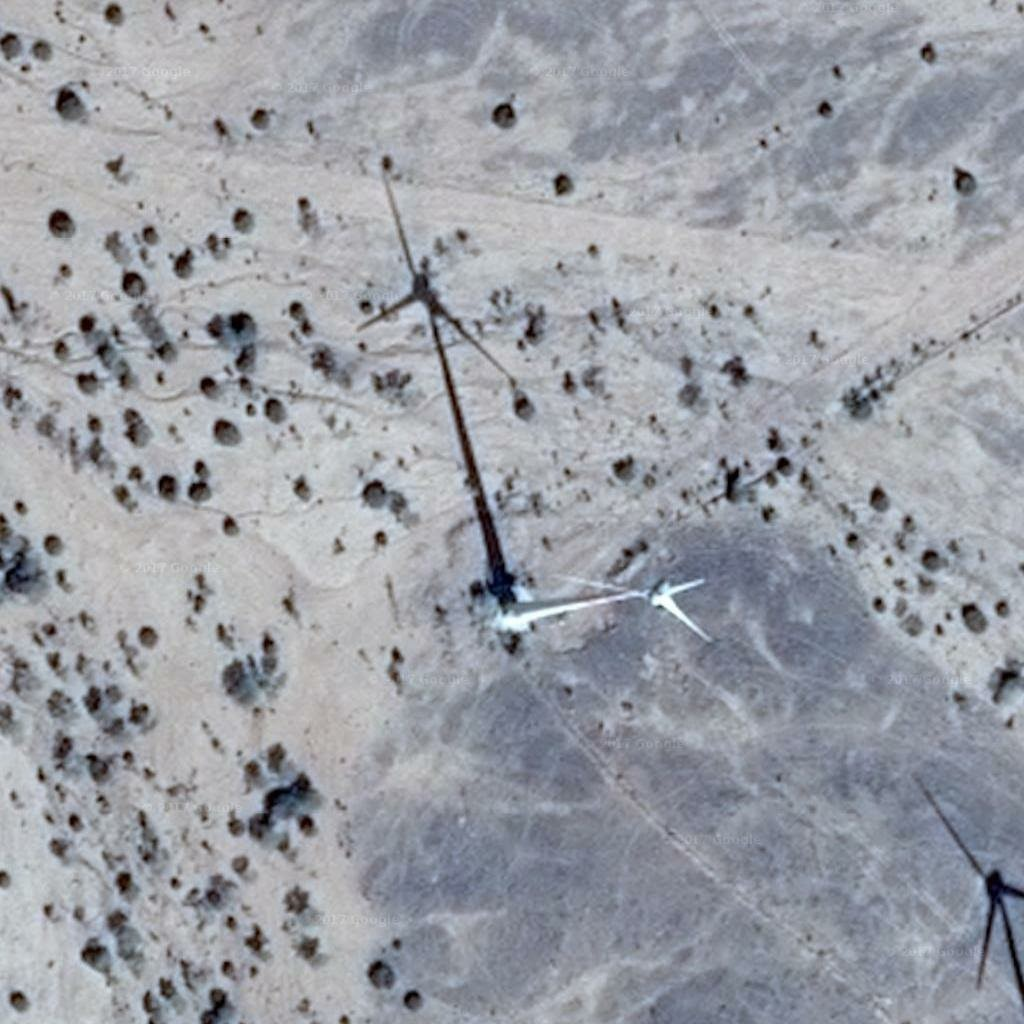Windmill: (352, 160, 548, 592)
